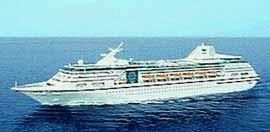youlun: (7, 41, 259, 107)
